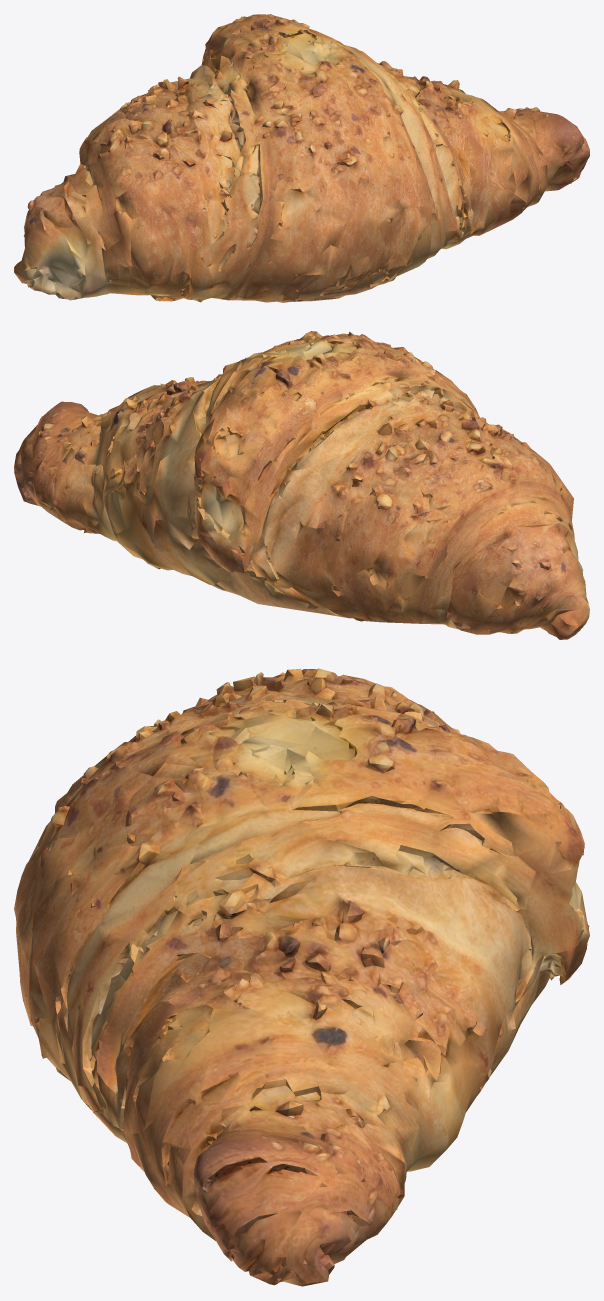
File: croissant-browser.glb
The picture shows the model from 3 angles, top to bottom: view 1: azimuth 30°, elevation 25°; view 2: azimuth 150°, elevation 25°; view 3: azimuth 270°, elevation 25°; orthographic projection. The views are drawn at different scales.
Parts seen in each view (by area): view 1: 3DPastry001_HQ-2K-JPG; view 2: 3DPastry001_HQ-2K-JPG; view 3: 3DPastry001_HQ-2K-JPG.
Boxes of the visible parts, <box> form: 3DPastry001_HQ-2K-JPG: <box>14,14,589,302</box>; 3DPastry001_HQ-2K-JPG: <box>14,331,589,639</box>; 3DPastry001_HQ-2K-JPG: <box>14,668,589,1286</box>.
Size of the model in its own units: 0.1247 by 0.0463 by 0.0669.
Materials: 1 (1 with a texture image).
